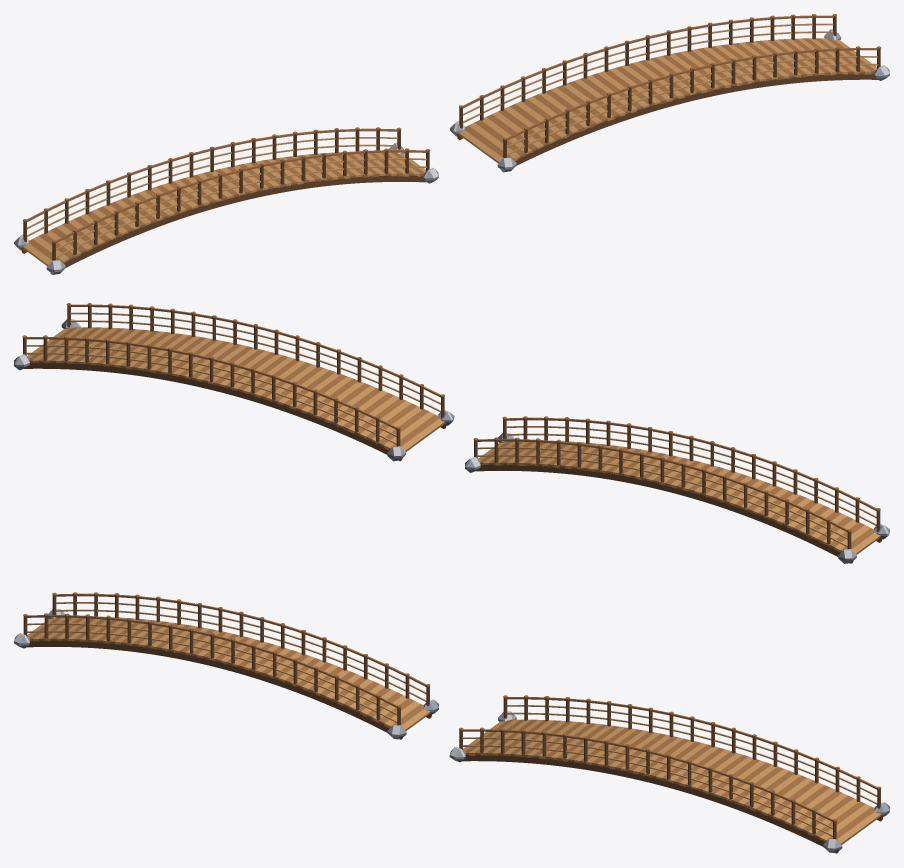
File: BridgeKit.glb
3 views of the same model, one above another, from view 1: azimuth 30°, elevation 25°; view 2: azimuth 150°, elevation 25°; view 3: azimuth 330°, elevation 25° (orthographic).
Parts seen in each view (by area): view 1: BridgeRoad__Wood_Light, BridgeRoad__Wood_Mid, BridgePath__Wood_Light, BridgePath__Wood_Mid, BridgePath__Wood_Dark, BridgeRoad__Wood_Dark; view 2: BridgeRoad__Wood_Light, BridgeRoad__Wood_Mid, BridgePath__Wood_Light, BridgePath__Wood_Mid, BridgeRoad__Wood_Dark, BridgePath__Wood_Dark; view 3: BridgeRoad__Wood_Light, BridgeRoad__Wood_Mid, BridgePath__Wood_Light, BridgePath__Wood_Mid, BridgePath__Wood_Dark, BridgeRoad__Wood_Dark.
Boxes of the visible parts, <box> form: BridgeRoad__Wood_Light: <box>459,23,877,163</box>; BridgeRoad__Wood_Mid: <box>459,14,881,160</box>; BridgePath__Wood_Light: <box>23,137,426,266</box>; BridgePath__Wood_Mid: <box>23,127,430,262</box>; BridgePath__Wood_Dark: <box>21,130,429,274</box>; BridgeRoad__Wood_Dark: <box>457,16,880,172</box>; BridgeRoad__Wood_Light: <box>26,312,444,451</box>; BridgeRoad__Wood_Mid: <box>22,303,444,450</box>; BridgePath__Wood_Light: <box>476,426,880,554</box>; BridgePath__Wood_Mid: <box>473,416,880,552</box>; BridgeRoad__Wood_Dark: <box>23,305,446,461</box>; BridgePath__Wood_Dark: <box>474,419,882,563</box>; BridgeRoad__Wood_Light: <box>462,705,881,844</box>; BridgeRoad__Wood_Mid: <box>459,695,881,841</box>; BridgePath__Wood_Light: <box>26,602,430,730</box>; BridgePath__Wood_Mid: <box>23,592,430,728</box>; BridgePath__Wood_Dark: <box>23,595,432,739</box>; BridgeRoad__Wood_Dark: <box>459,698,883,853</box>.
Size of the model in its own units: 158 by 10.78 by 19.17.
